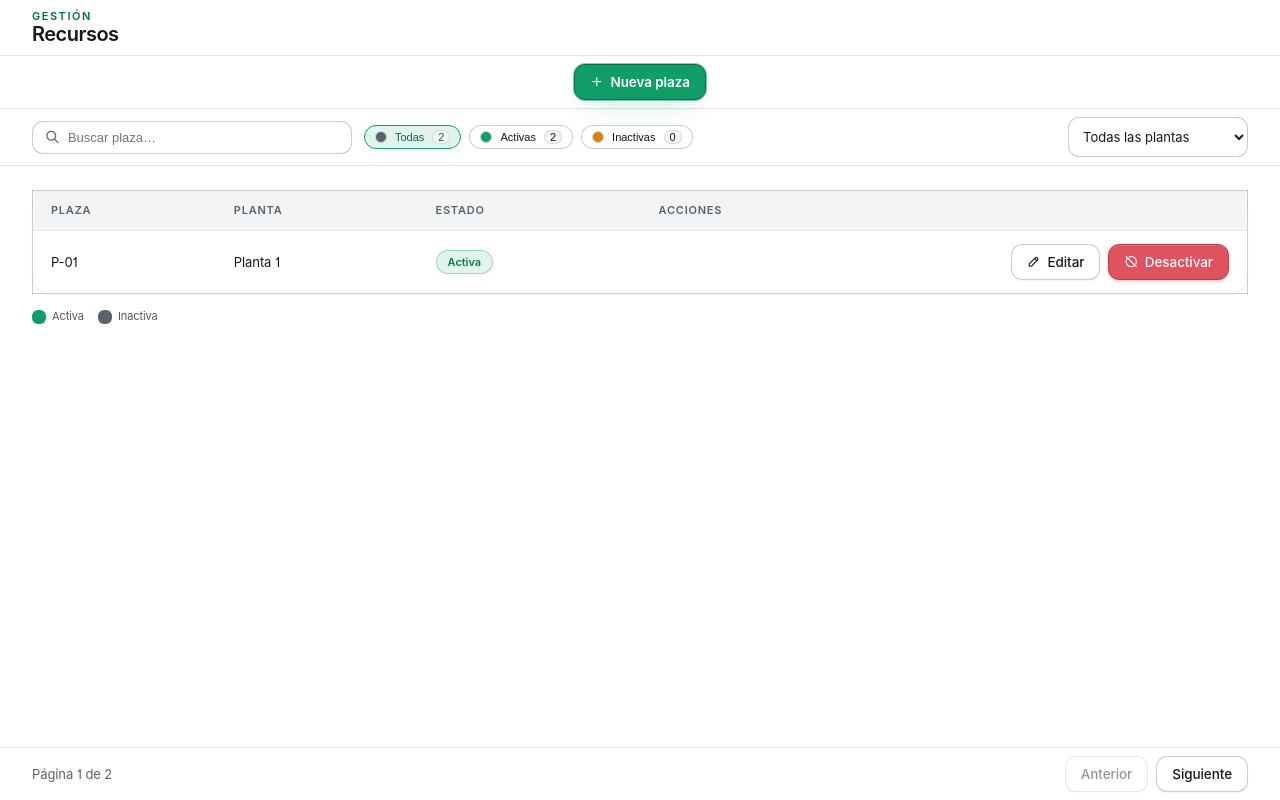
Scenario: ParkingSpacesPage › should_change_page_when_clicking_next_on_multipage_result
This screenshot has width=1280, height=800.
Expected: the text "P-01" is shown, [32,230,216,294]
Click the button "Siguiente" at x=1202, y=774, box [1156,756,1248,792]
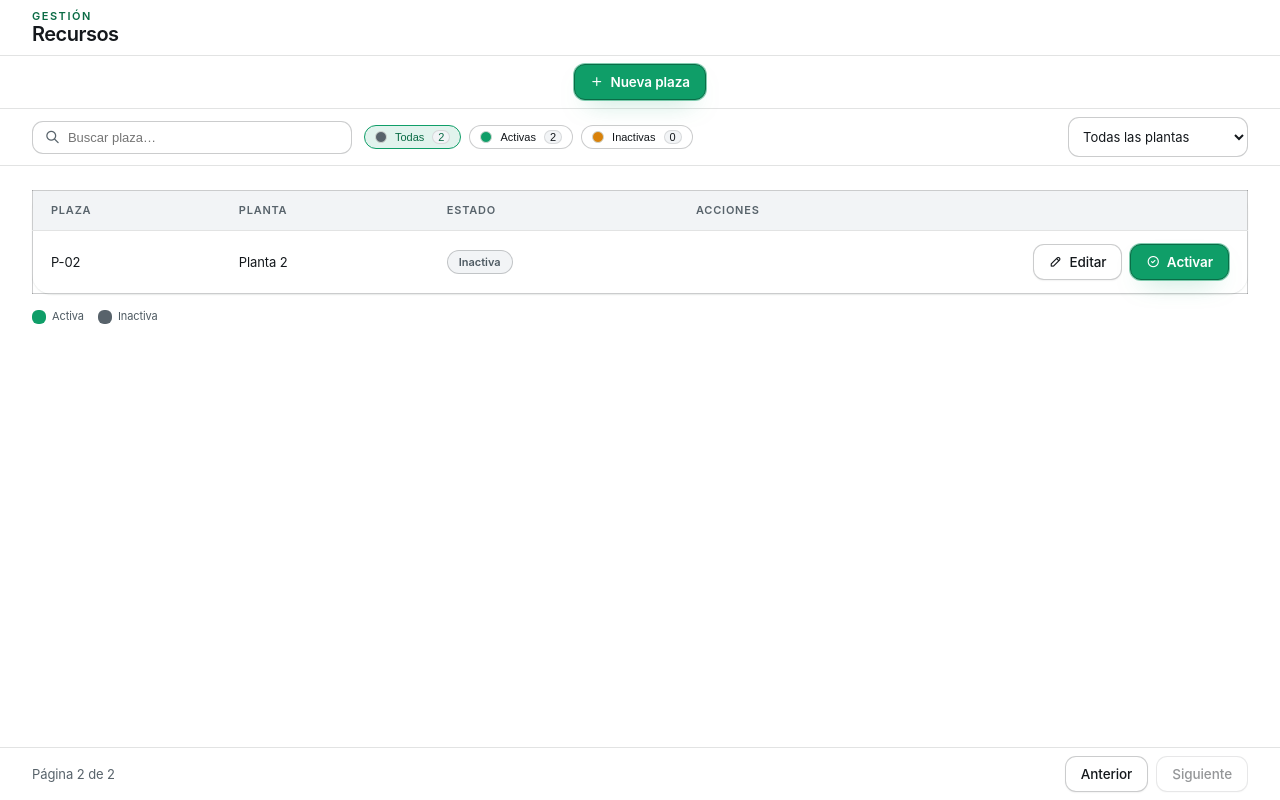
Result: the text "P-02" is shown at [32,230,221,294]
